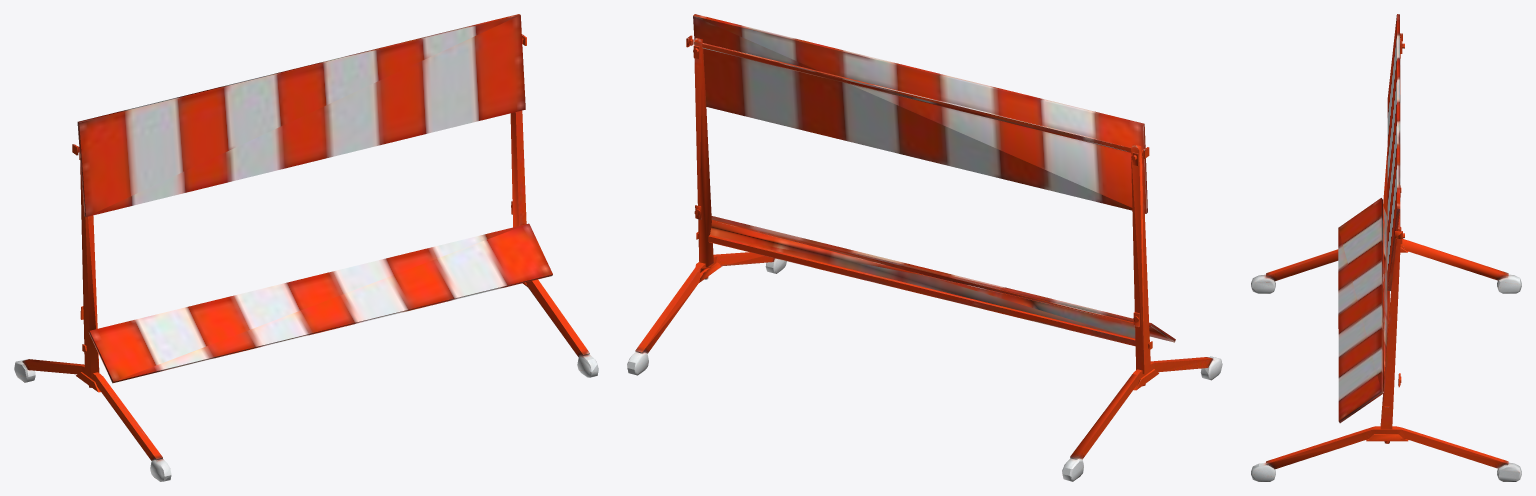
Rendered from barricade.glb.
3 views of the same model, side by side, from view 1: azimuth 30°, elevation 25°; view 2: azimuth 150°, elevation 25°; view 3: azimuth 270°, elevation 25° (orthographic). The views are drawn at different scales.
Visible parts, largest first — view 1: barricade_lod0; view 2: barricade_lod0; view 3: barricade_lod0.
Boxes of the visible parts, box(x1,y1,x2,y2) form: barricade_lod0: box(14, 14, 598, 481); barricade_lod0: box(627, 14, 1222, 481); barricade_lod0: box(1251, 14, 1521, 481).
Size of what is drawn, in the model's own units: 1.2 by 0.7758 by 0.693.
Materials: 1 (1 with a texture image).
